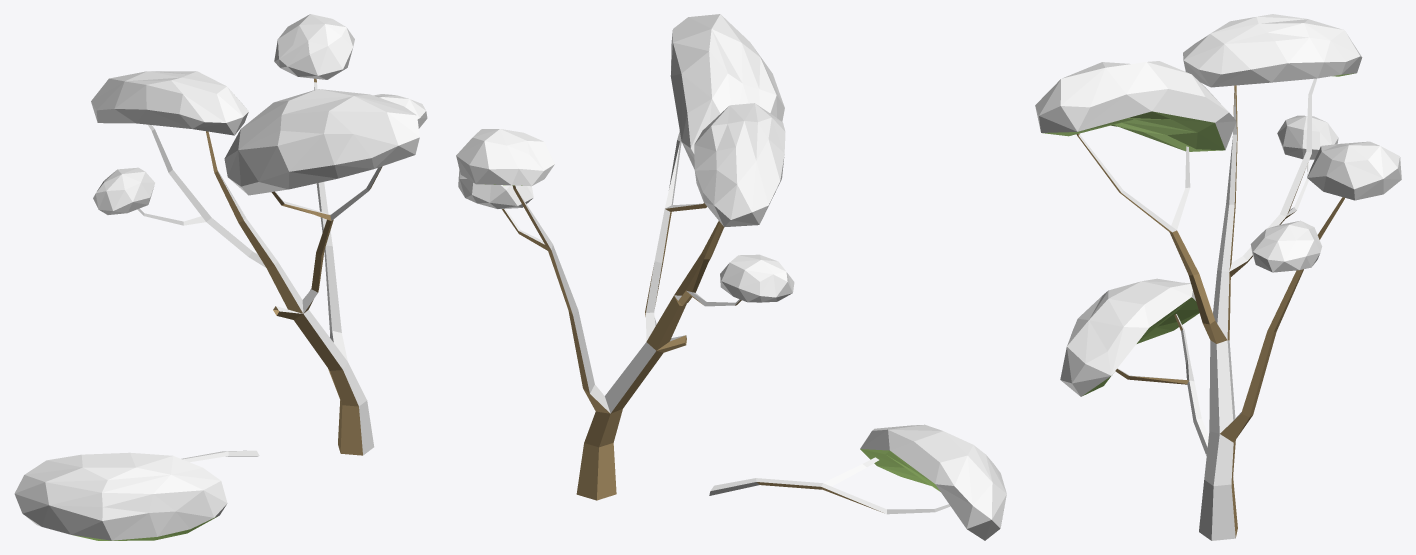
Rendered from Acacia_Tree_crk_l_Snow_BT_03.fbx.
The picture shows the model from 3 angles, left to right: view 1: azimuth 30°, elevation 25°; view 2: azimuth 150°, elevation 25°; view 3: azimuth 270°, elevation 25°; orthographic projection. The views are drawn at different scales.
Parts seen in each view (by area): view 1: Acacia_Tree_crk_l_Snow_BT_03; view 2: Acacia_Tree_crk_l_Snow_BT_03; view 3: Acacia_Tree_crk_l_Snow_BT_03.
Part boxes in pixels (<box>): Acacia_Tree_crk_l_Snow_BT_03: <box>14,14,427,540</box>; Acacia_Tree_crk_l_Snow_BT_03: <box>456,14,1006,540</box>; Acacia_Tree_crk_l_Snow_BT_03: <box>1035,14,1401,540</box>.
Size of the model in its own units: 1368 by 1171 by 891.
